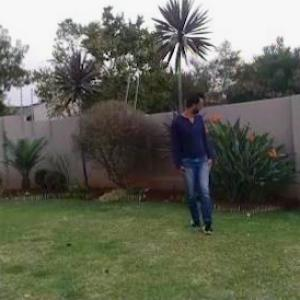follow: (168, 81, 221, 249)
